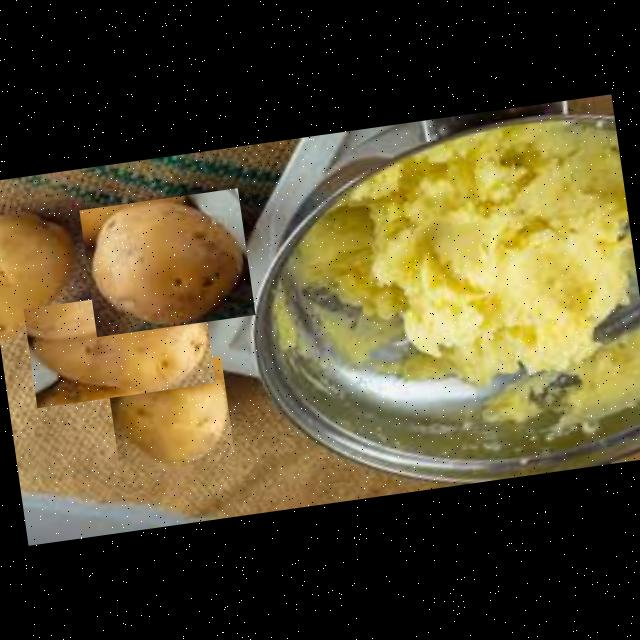Potato: (80, 188, 256, 337), (23, 284, 215, 408), (107, 356, 236, 475)
